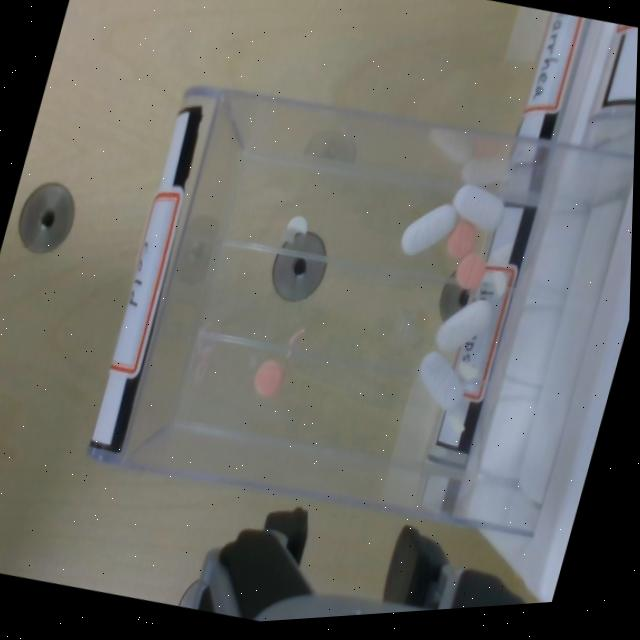amoxicle_tab: (400, 203, 457, 255), (435, 300, 491, 351), (419, 352, 463, 412), (451, 184, 503, 231)
panstar_tab: (445, 221, 477, 261), (253, 359, 282, 397), (455, 251, 484, 289)
sudafed_tab: (286, 215, 307, 233)
